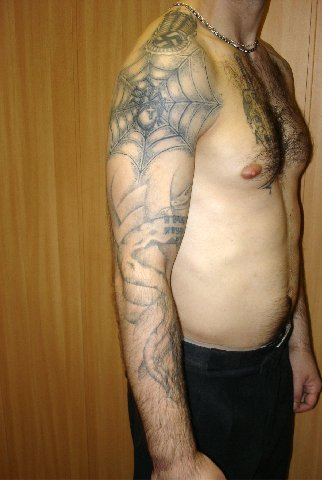tatu7_zmeya: (100, 138, 204, 391)
